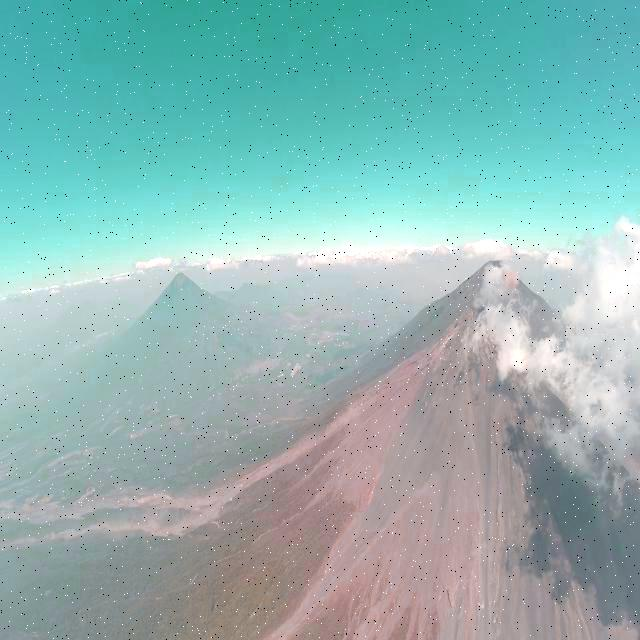Plume: (481, 260, 522, 306)
Summit: (427, 302, 492, 373)
